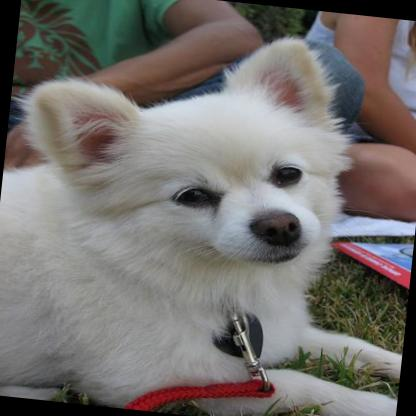Pomeranian: (0, 5, 416, 416)
